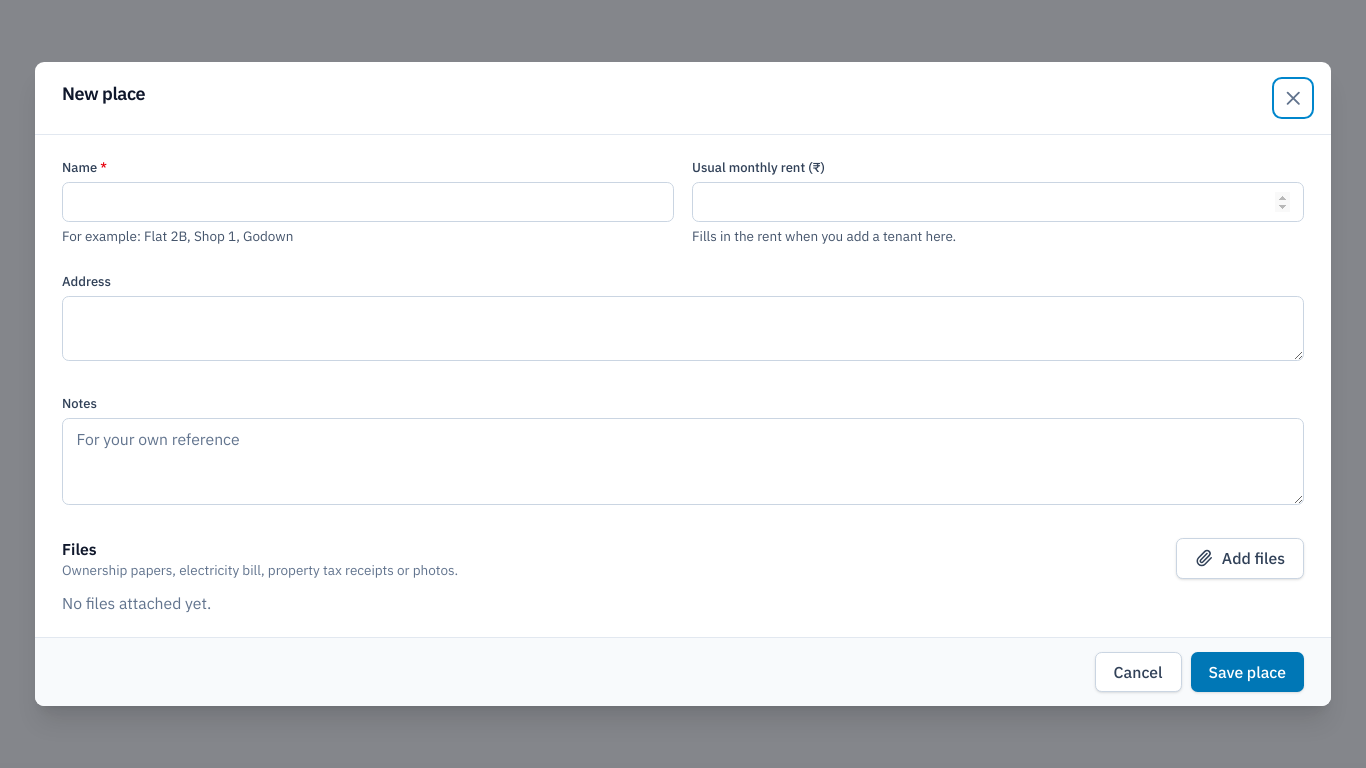
Test: PlaceFormModal › refuses no name or a negative rent
Click the button "Save place" at (1247, 672), box [1190,652,1304,692]
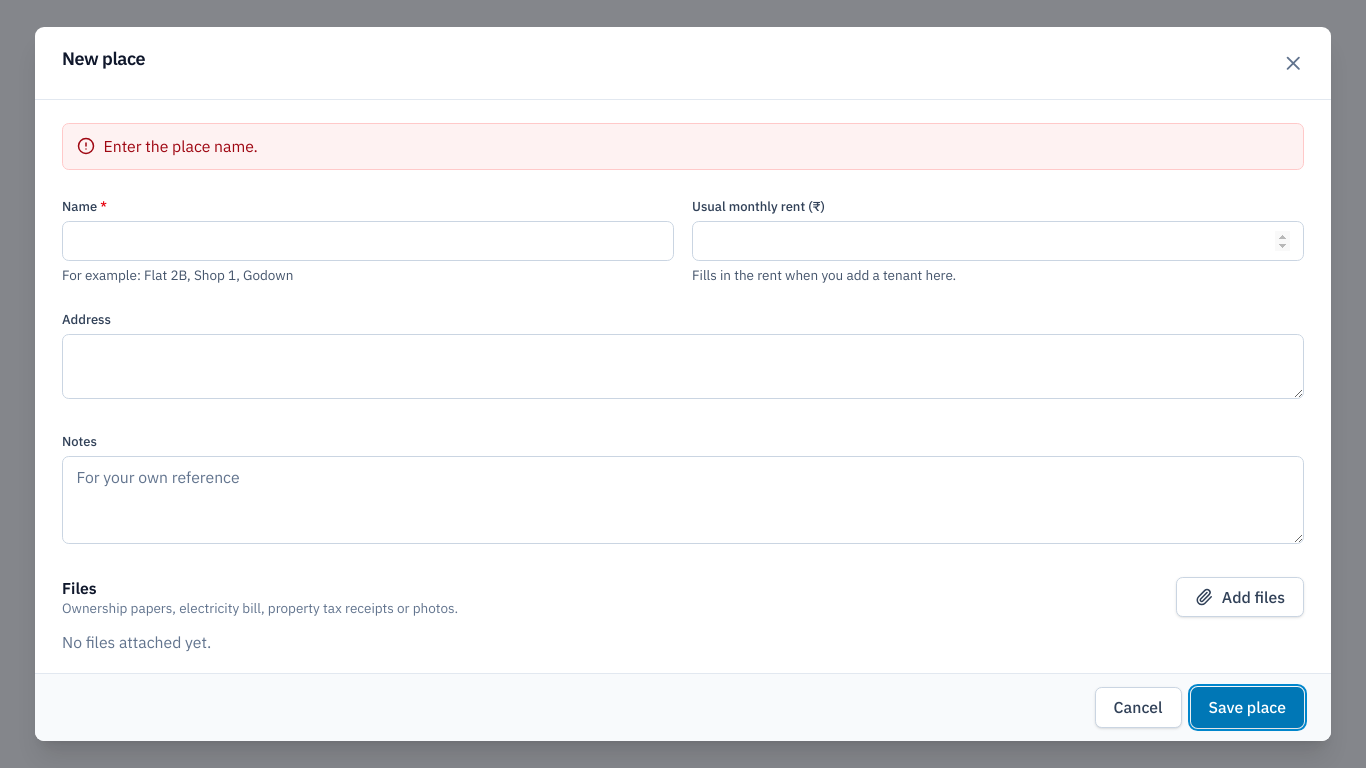
Now the message reads "Enter the place name.", box [104,136,258,156]
Type "Shop 2" into the field labelled "Name" at (368, 241), box [62,220,674,261]
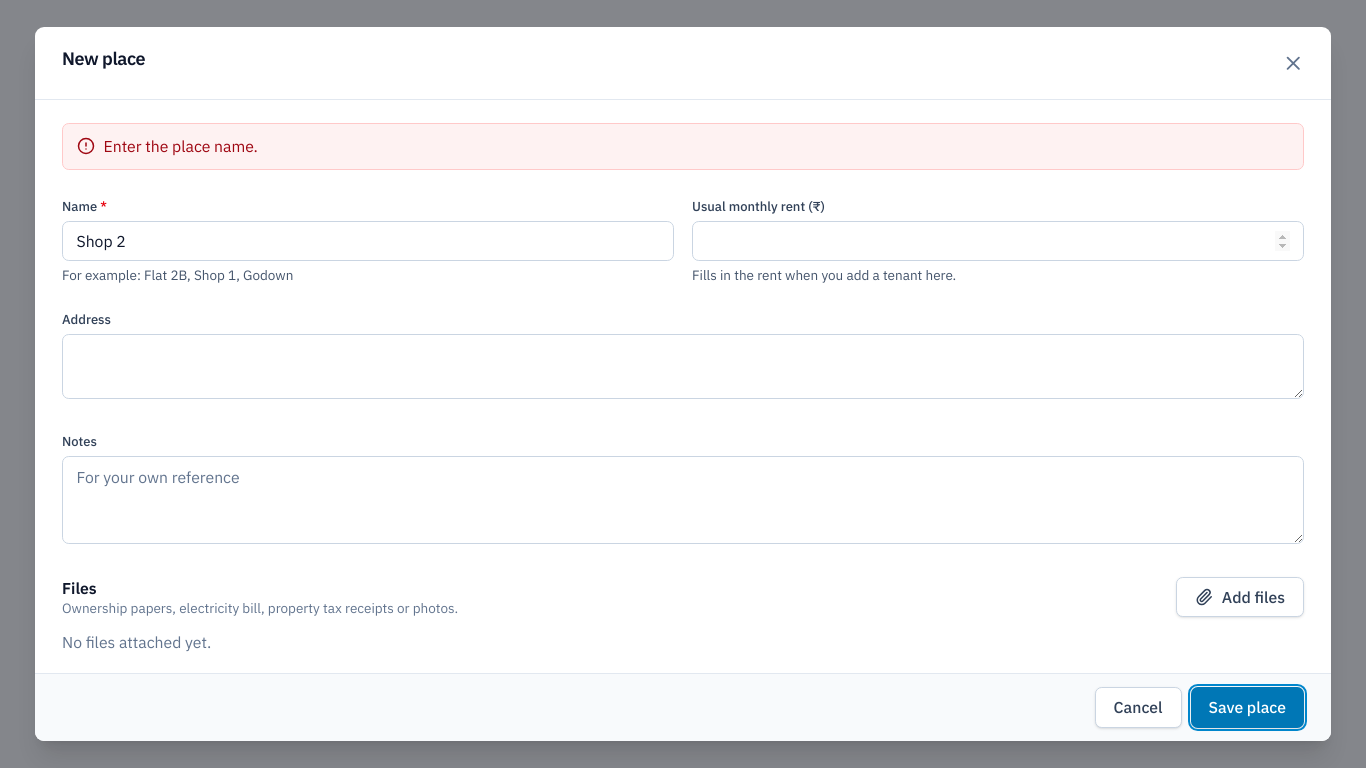
Type "-100" into the number field labelled "Usual monthly rent" at (998, 241), box [692,220,1304,261]
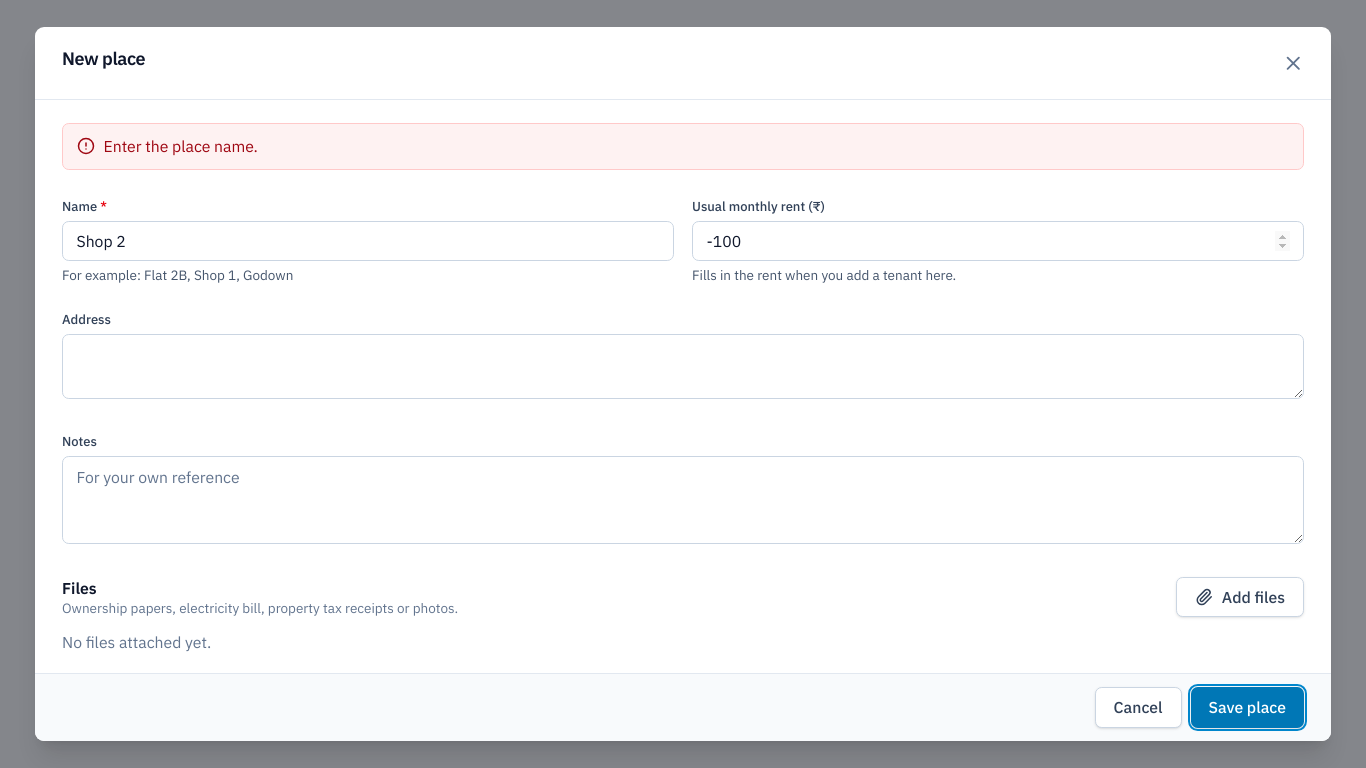
Click the button "Save place" at (1247, 707), box [1190,687,1304,728]
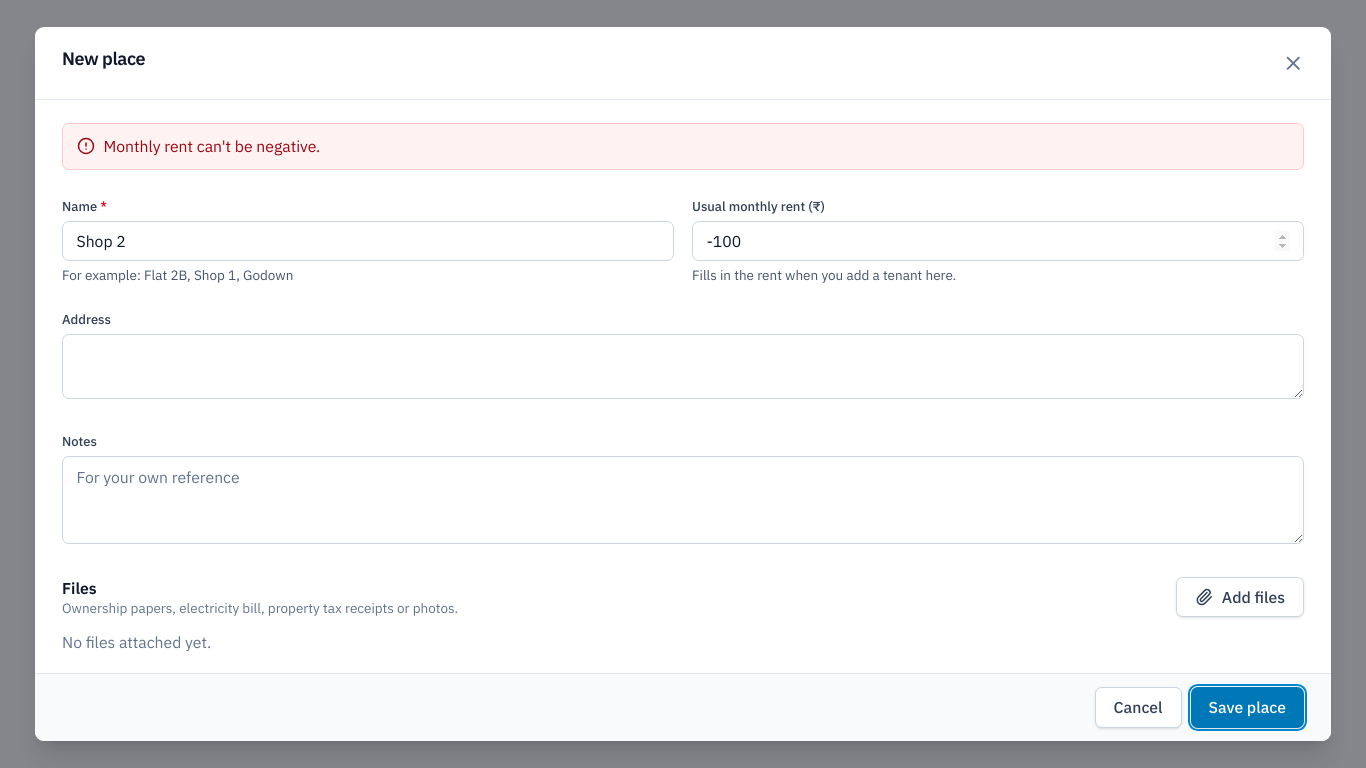
Now the message reads "Monthly rent can't be negative.", box [104,136,320,156]
